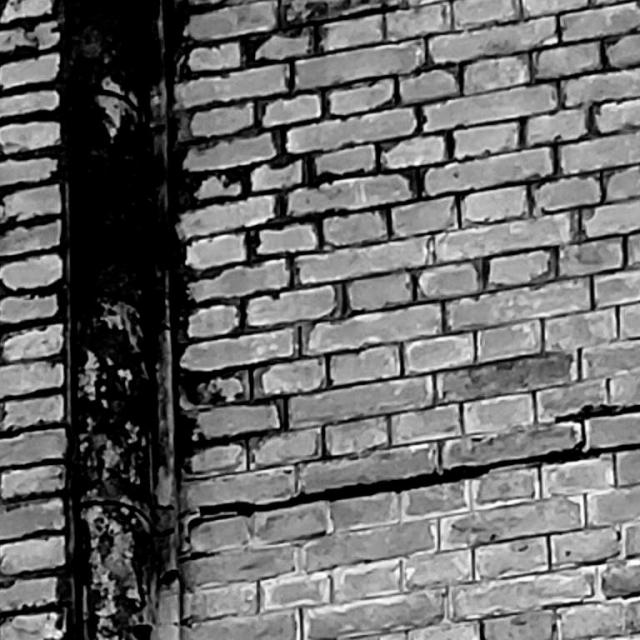crack: (187, 404, 639, 529)
